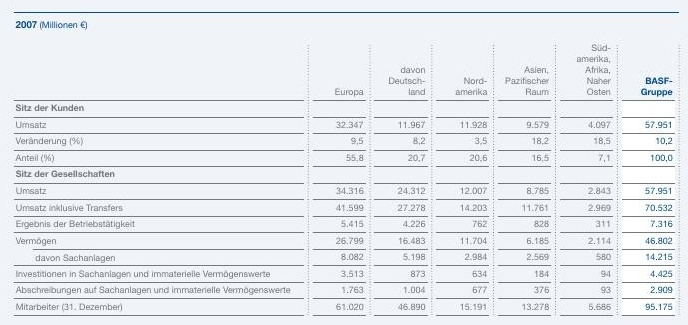table: (0, 0, 688, 325)
